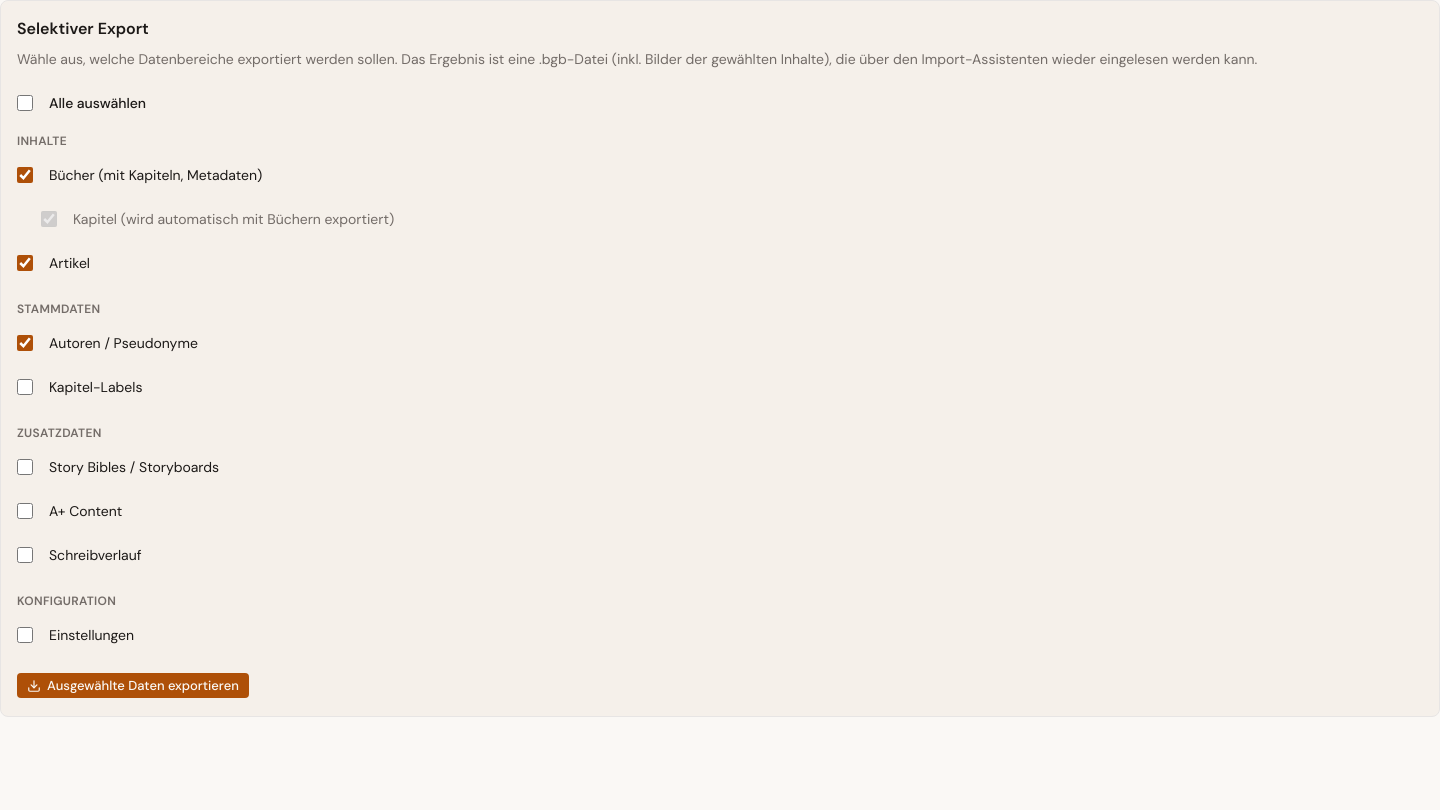
SelectiveExportSection › select-all toggles every section on then off
// Default selection is partial, so the first click selects all.
Click the checkbox with test id "selective-export-select-all". click: x=25, y=103
box: [17,95,33,111]
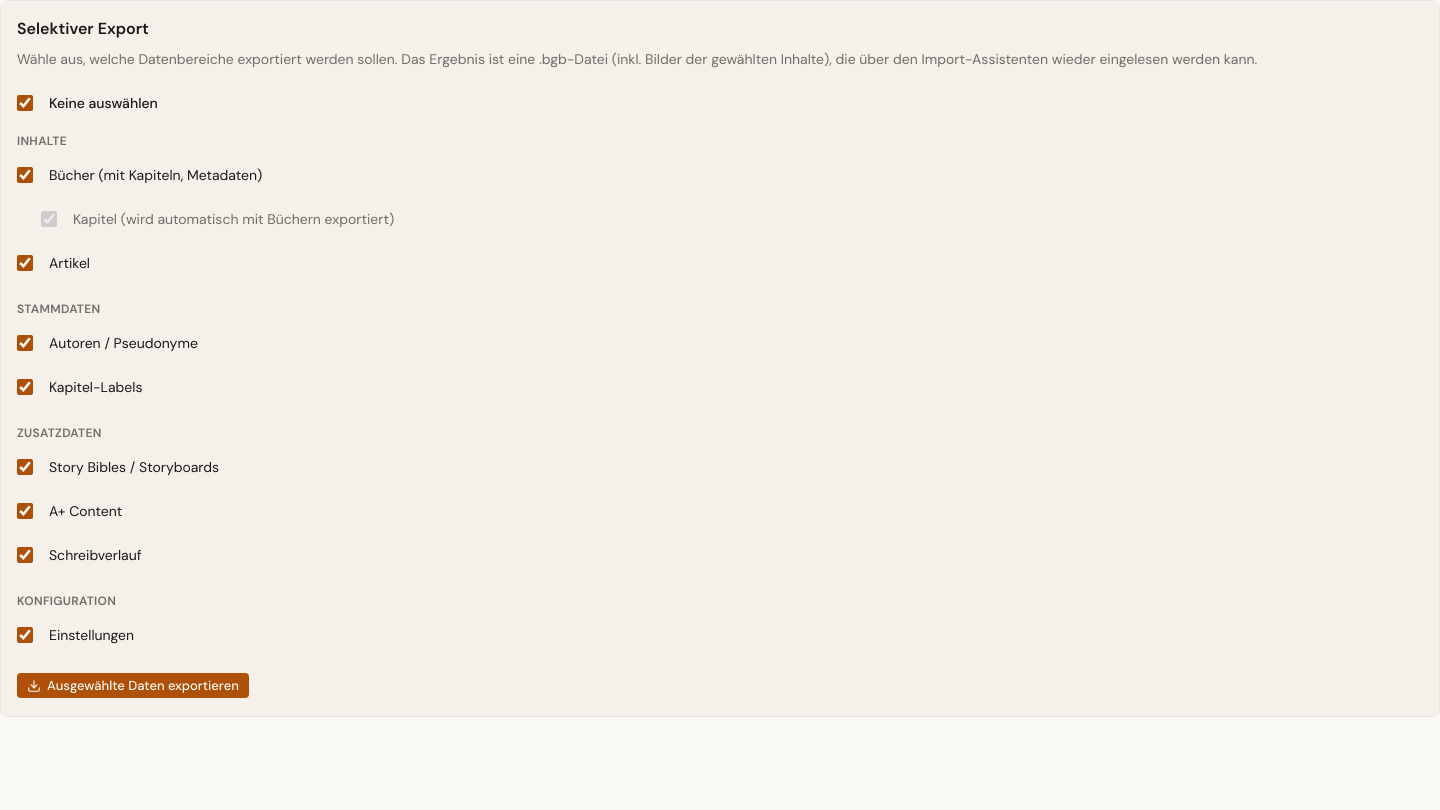
expect the checkbox with test id "selective-export-item-settings" is checked: met, box [17,627,33,643]
expect the checkbox with test id "selective-export-item-storyBible" is checked: met, box [17,459,33,475]
// Now everything is selected → next click clears all.
Click the checkbox with test id "selective-export-select-all". click: x=25, y=103
box: [17,95,33,111]
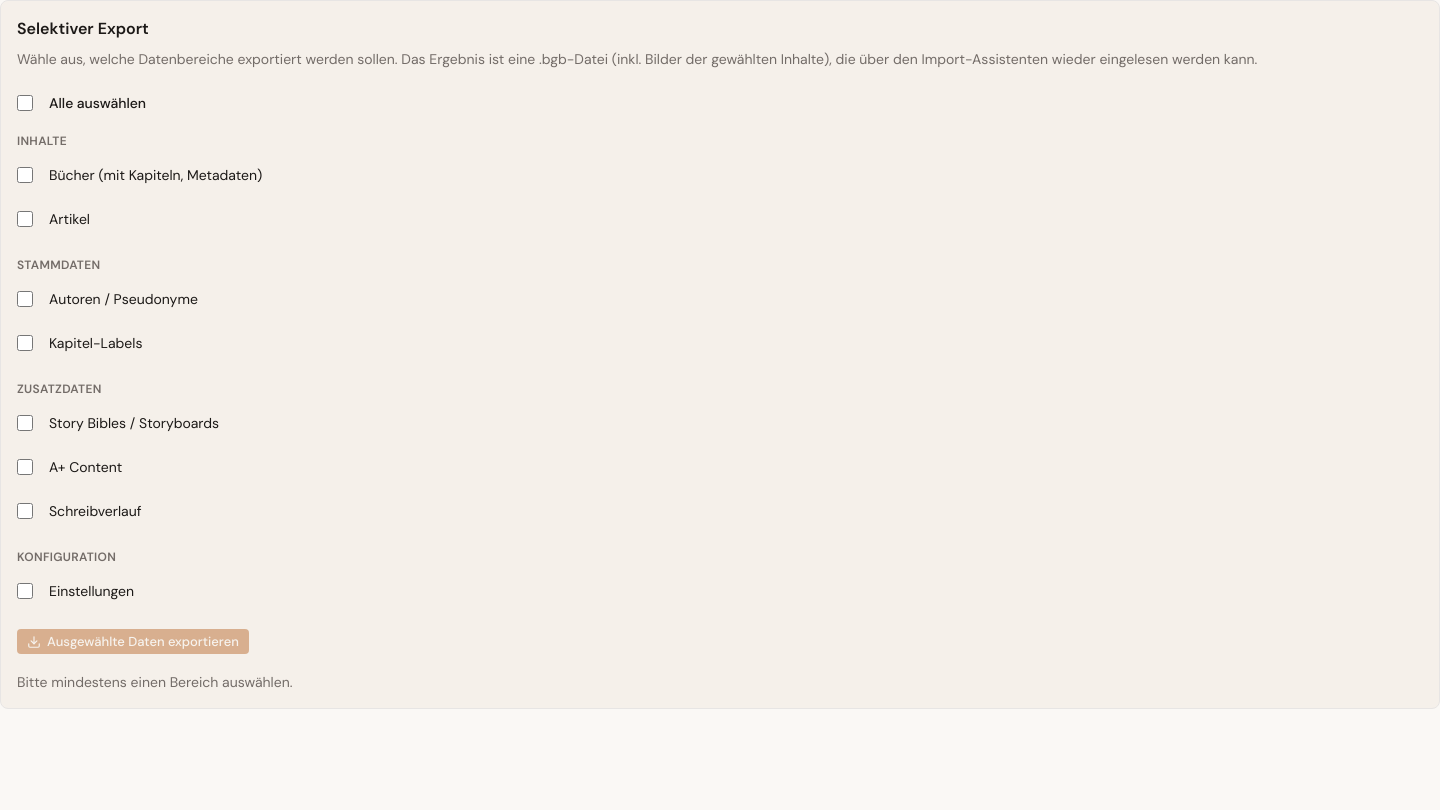
expect the checkbox with test id "selective-export-item-books" is not checked: met, box [17,167,33,183]
expect the text "Bitte mindestens einen Bereich auswählen." is shown: met, box [17,673,292,691]
